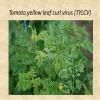Tomato leaf yellow virus: (11, 61, 28, 76), (21, 53, 33, 66), (77, 57, 86, 70), (16, 25, 26, 36), (58, 68, 68, 79), (73, 45, 80, 60), (58, 35, 64, 52), (61, 52, 71, 62), (40, 28, 49, 39), (27, 25, 34, 39), (65, 32, 72, 46), (60, 85, 71, 93), (70, 37, 81, 45), (19, 40, 29, 48), (37, 57, 43, 69), (18, 72, 25, 82), (49, 81, 60, 87), (23, 80, 29, 91), (17, 81, 24, 90), (45, 53, 52, 61), (34, 50, 41, 57), (48, 35, 54, 43), (41, 79, 45, 87), (27, 72, 31, 80), (34, 77, 39, 82), (43, 37, 47, 43)
